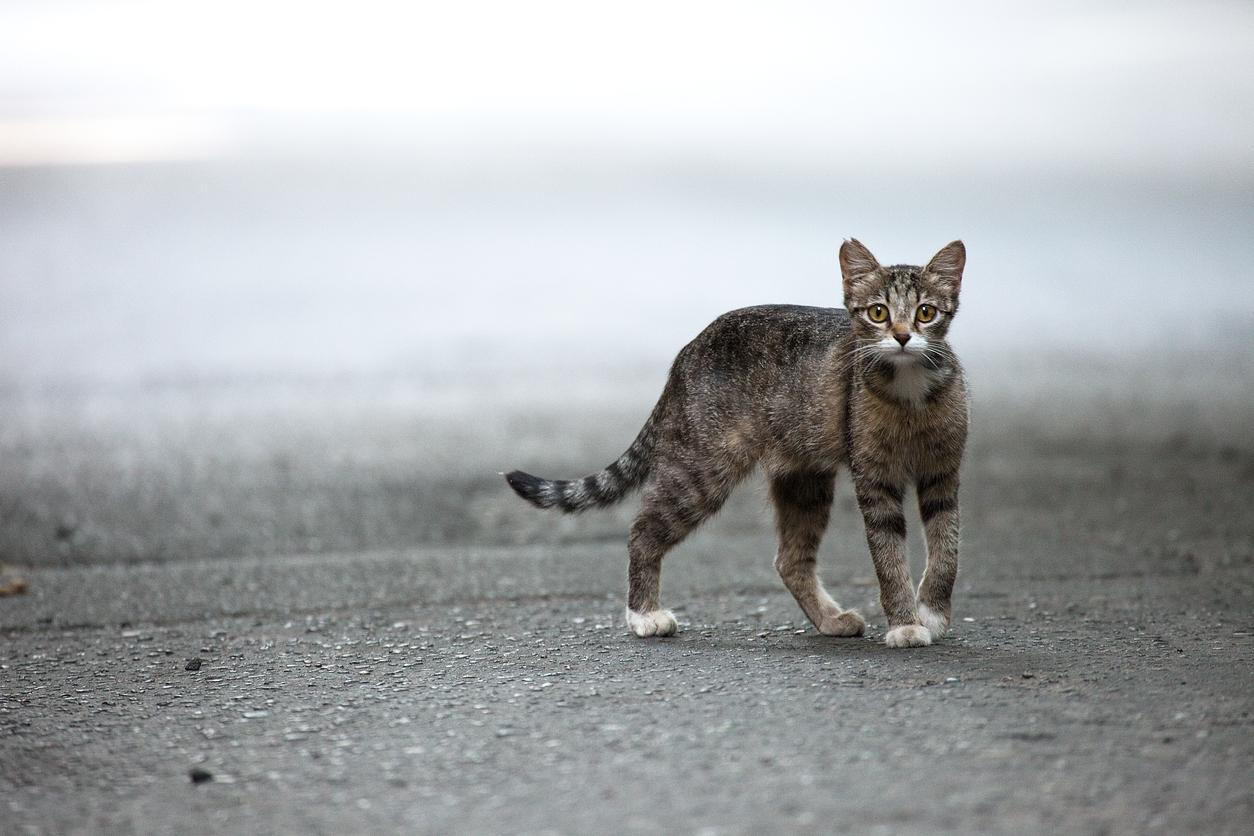Cat: (493, 215, 994, 665)
